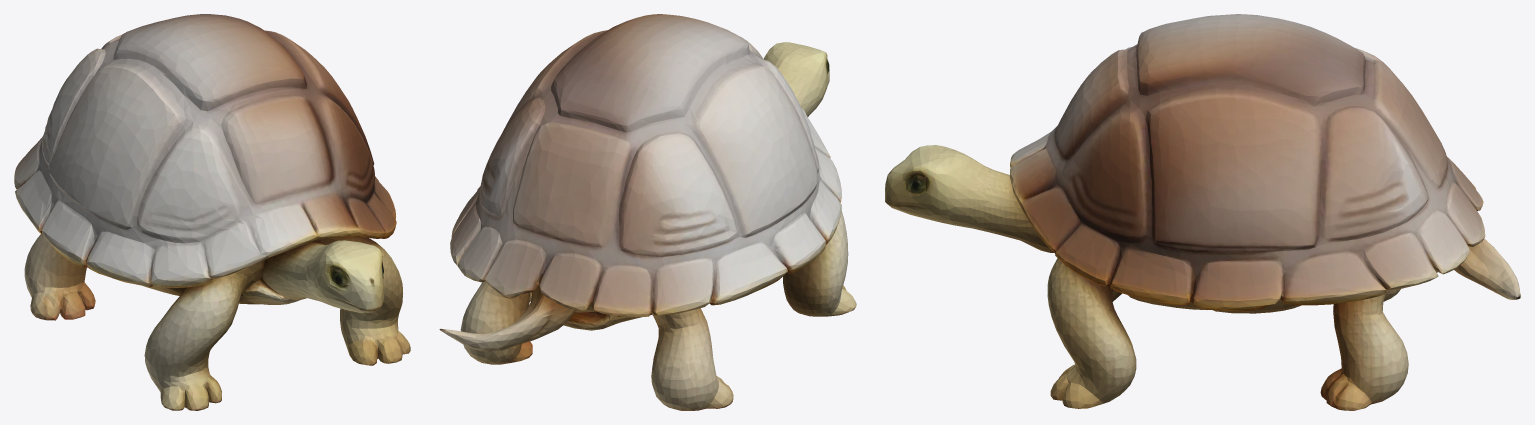
Rendered from desert_tortoise.glb.
3 renders of one model, left to right at view 1: azimuth 30°, elevation 25°; view 2: azimuth 150°, elevation 25°; view 3: azimuth 270°, elevation 25°, orthographic. The views are drawn at different scales.
Parts seen in each view (by area): view 1: geometry_0; view 2: geometry_0; view 3: geometry_0.
Boxes of the visible parts, left/top/right/bottom form: geometry_0: left=14, top=14, right=410, bottom=410; geometry_0: left=439, top=14, right=856, bottom=410; geometry_0: left=885, top=14, right=1520, bottom=410.
Bounding box in the file's own units: 0.6101 × 0.5491 × 0.9999.
1 material, 1 textured.
